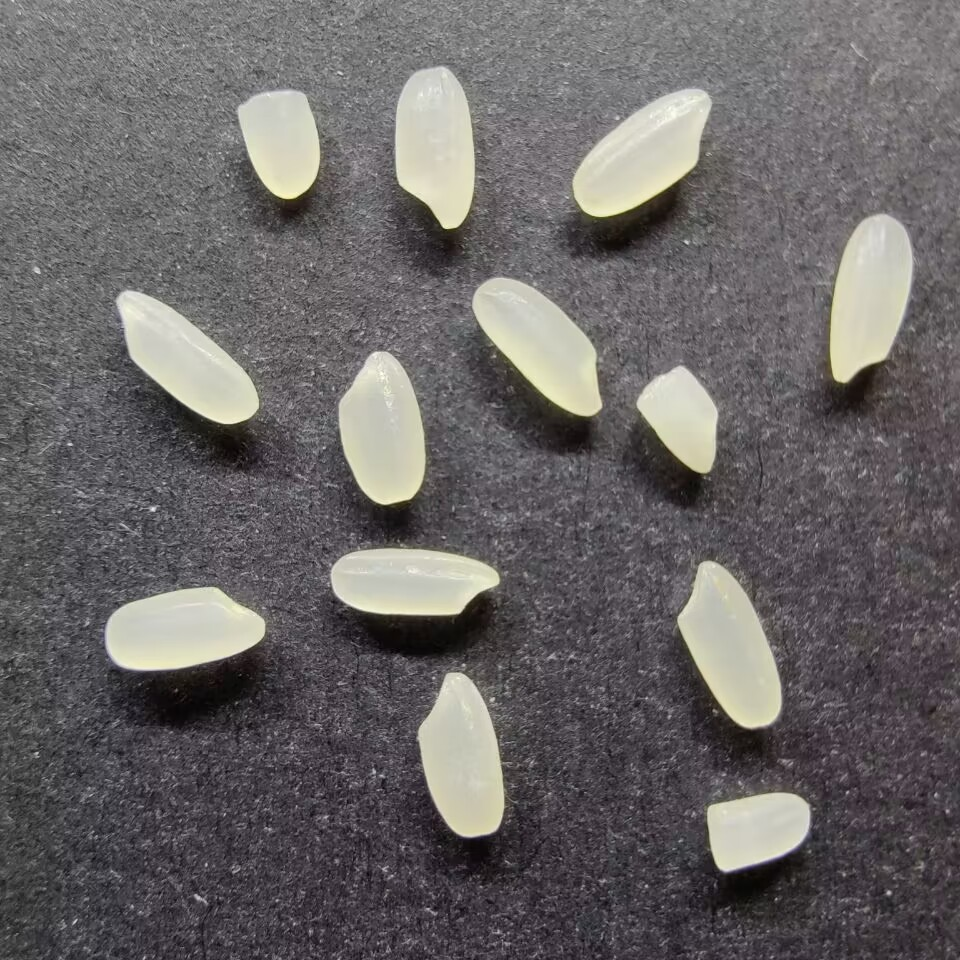broken: (633, 363, 721, 475), (235, 88, 322, 199), (704, 791, 813, 873)
rice: (115, 288, 261, 427), (470, 275, 606, 418), (570, 85, 714, 219), (674, 559, 784, 729), (416, 670, 506, 839), (827, 214, 913, 384), (104, 584, 266, 672), (336, 350, 426, 506), (392, 65, 473, 228), (328, 544, 500, 617)
